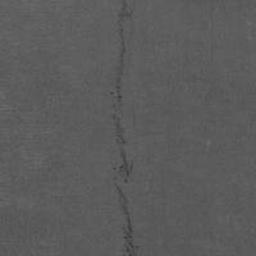Inclusion: (116, 186, 139, 249), (112, 114, 133, 177), (116, 41, 126, 93), (118, 0, 132, 22)
